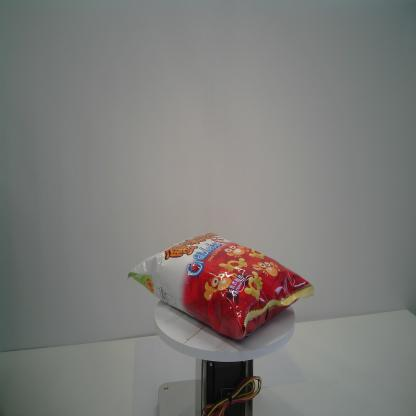Puffed Food: (126, 232, 314, 342)
